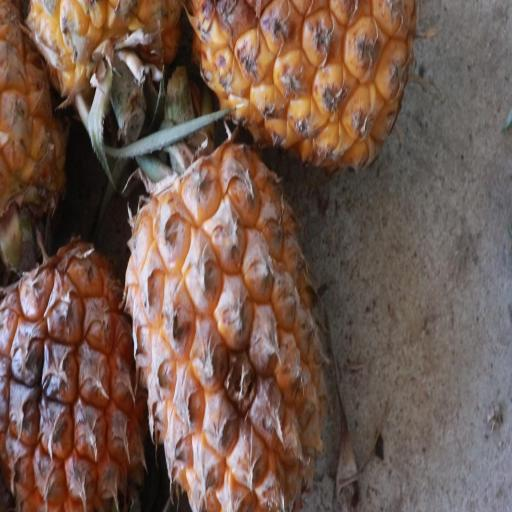Pineapple - v8 v1: (124, 134, 330, 512), (177, 0, 416, 178), (0, 232, 147, 510)
